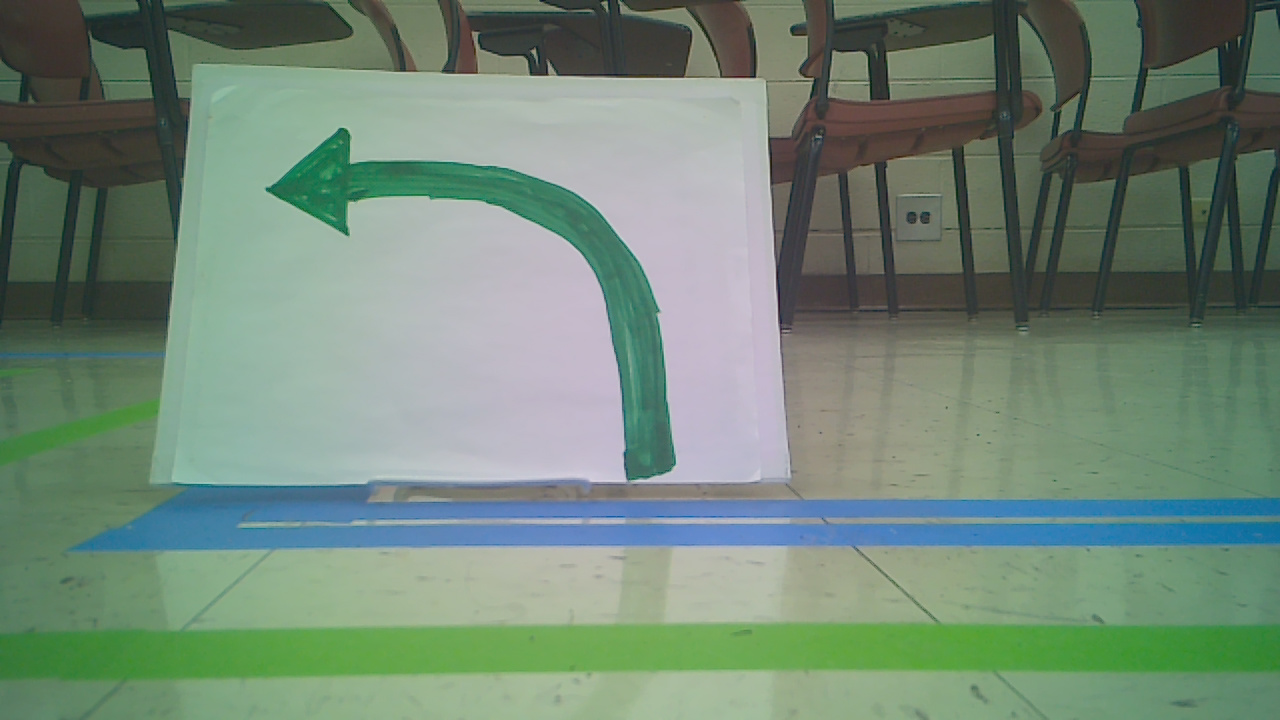greenline: (25, 629, 1273, 675)
left: (261, 128, 679, 482)
